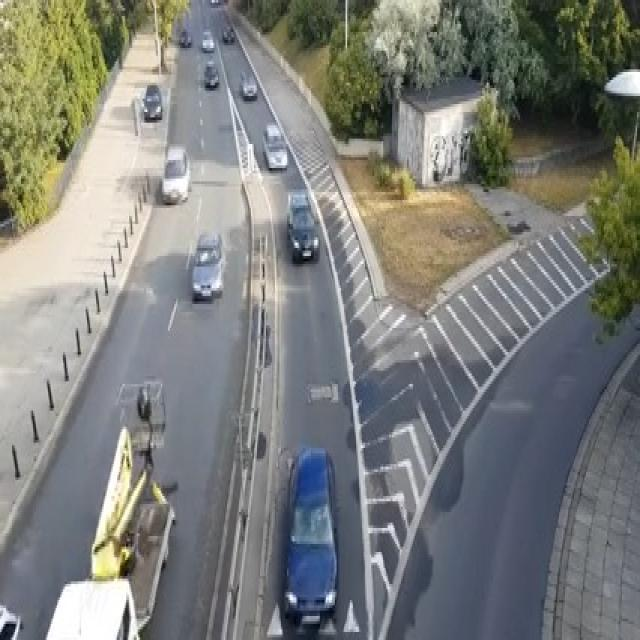car: (282, 445, 338, 627), (191, 229, 224, 299), (286, 190, 318, 262), (161, 144, 189, 203), (261, 120, 287, 171), (141, 83, 162, 120), (0, 600, 21, 637), (239, 69, 257, 99), (203, 59, 219, 88), (221, 21, 234, 43), (202, 27, 214, 50), (179, 27, 191, 45), (209, 0, 221, 5)
